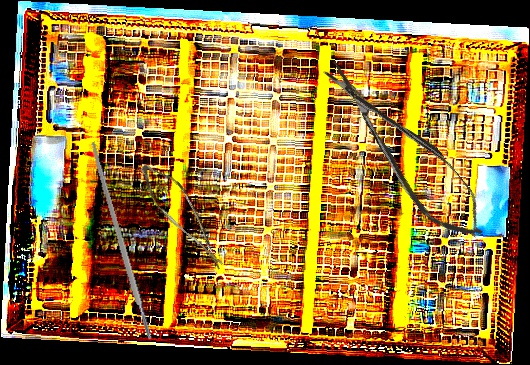Micro Scissor: (312, 44, 497, 254), (124, 157, 245, 271)
Scalpel Handle: (87, 140, 154, 341)
